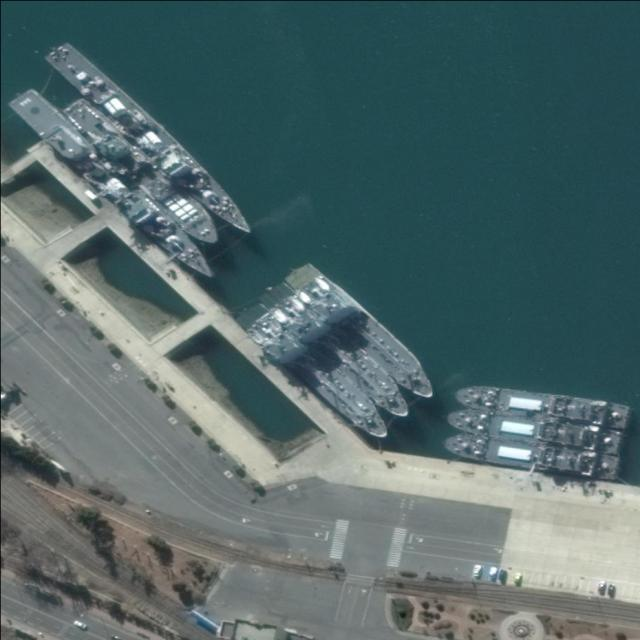Frigate: (45, 35, 261, 243), (7, 83, 224, 290)
Landing: (278, 251, 445, 404), (233, 296, 396, 447), (258, 277, 419, 426), (452, 381, 630, 432), (445, 406, 623, 456), (442, 433, 622, 481)
Other Warship: (63, 94, 226, 253)
